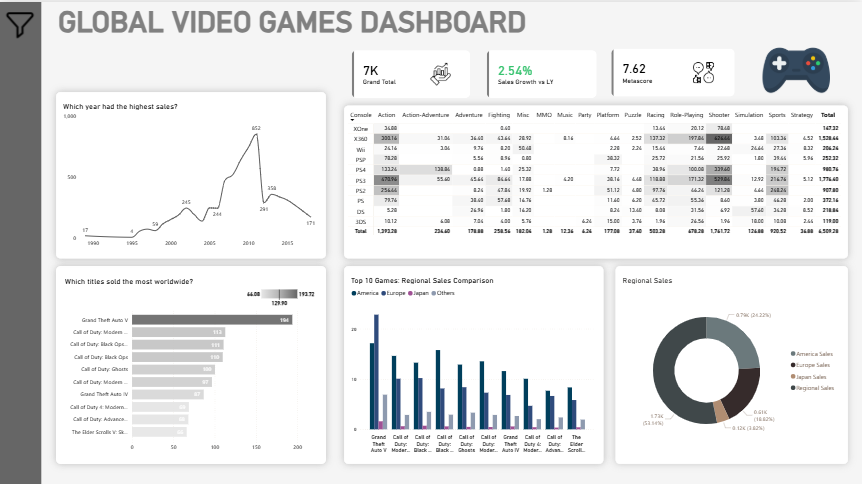

Layout of this report page (visuals, bound fields, positions):
{"tool":"powerbi","page":{"name":"Page 1","canvas":[1920,1080],"ordinal":0},"visuals":[{"type":"barChart","title":"Which titles sold the most worldwide?","fields":{"Y":["Key Measure.Grand Total"],"Category":["VG_Chartz24.Title"]},"box":[126.7,586.7,600,440],"z":0},{"type":"areaChart","title":"Which year had the highest sales?","fields":{"Y":["Key Measure.Grand Total"],"Category":["Date Table.Date.Variation.Date Hierarchy.Year"]},"box":[126.7,200,600,370],"z":1000},{"type":"clusteredColumnChart","title":"Top 10 Games: Regional Sales Comparison","fields":{"Category":["VG_Chartz24.Title"],"Series":["VG_Chartz24.Region"],"Y":["Key Measure.Regional Sales"]},"box":[766.7,586.7,576.7,440],"z":2000},{"type":"textbox","box":[126.7,0,1110,86.7],"z":3000},{"type":"pivotTable","fields":{"Values":["Key Measure.Grand Total"],"Rows":["VG_Chartz24.Console"],"Columns":["VG_Chartz24.Genre"]},"box":[767.5,230,1120,340],"z":4000},{"type":"cardVisual","fields":{"Data":["Key Measure.Grand Total"]},"box":[767,90,297,140],"z":5000},{"type":"cardVisual","fields":{"Data":["Key Measure.AvgCriticScore"]},"box":[1344,85,308,140],"z":6000},{"type":"shape","box":[0,0,94,1080],"z":7000},{"type":"actionButton","title":"Filter Button","box":[7.5,10,80,80],"z":8000},{"type":"donutChart","title":"Regional Sales","fields":{"Y":["Key Measure.America Sales","Key Measure.Europe Sales","Key Measure.Japan Sales","Key Measure.Regional Sales"]},"box":[1370,586.7,516.7,440],"z":10000},{"type":"cardVisual","fields":{"Data":["Date Table.Sales Growth vs LY"]},"box":[1066,90,278,140],"z":11000},{"type":"image","box":[1652,75,236,150],"z":12000}]}

Visuals, with their boxes in screenshot pixels (x1, y1, x2, y2), scaled from the page's 1920x1080 canvas onto the 862x484 screenshot:
"Which titles sold the most worldwide?" barChart: 57:263:326:460
"Which year had the highest sales?" areaChart: 57:90:326:255
"Top 10 Games: Regional Sales Comparison" clusteredColumnChart: 344:263:603:460
textbox: 57:0:555:39
pivotTable - Key Measure.Grand Total x VG_Chartz24.Console: 345:103:847:255
cardVisual - Key Measure.Grand Total: 344:40:478:103
cardVisual - Key Measure.AvgCriticScore: 603:38:742:101
shape: 0:0:42:483
"Filter Button" actionButton: 3:4:39:40
"Regional Sales" donutChart: 615:263:847:460
cardVisual - Date Table.Sales Growth vs LY: 479:40:603:103
image: 742:34:848:101
